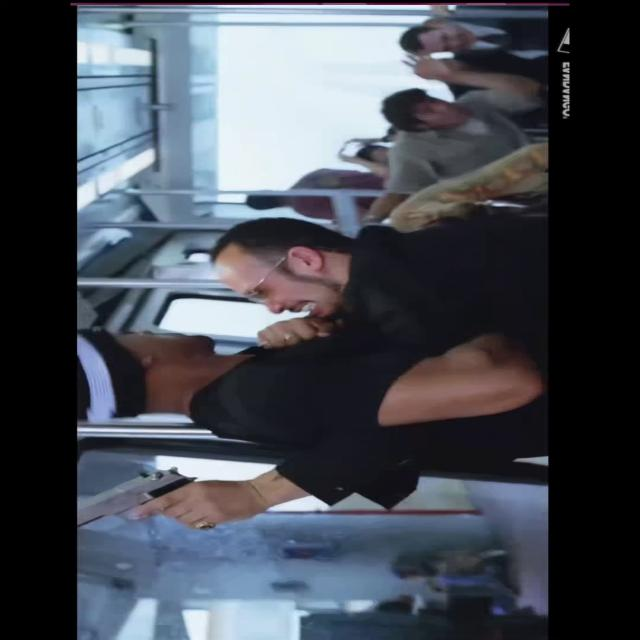weapons: (80, 458, 238, 547)
